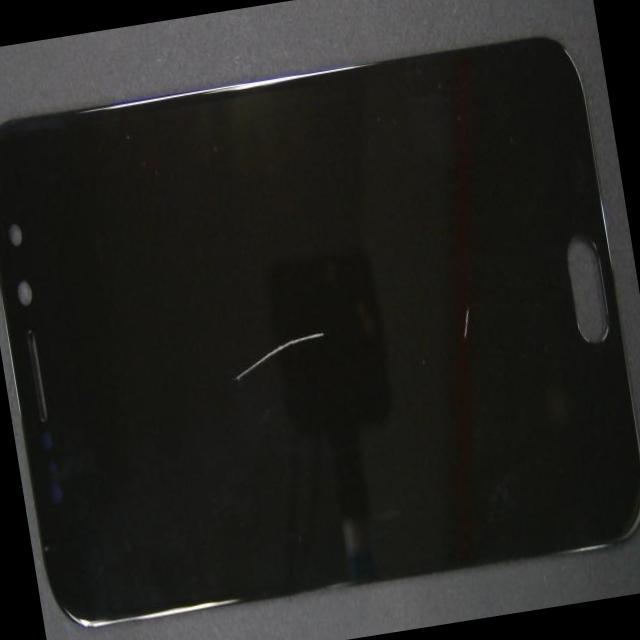scratch: (204, 296, 351, 426), (441, 287, 488, 360)
